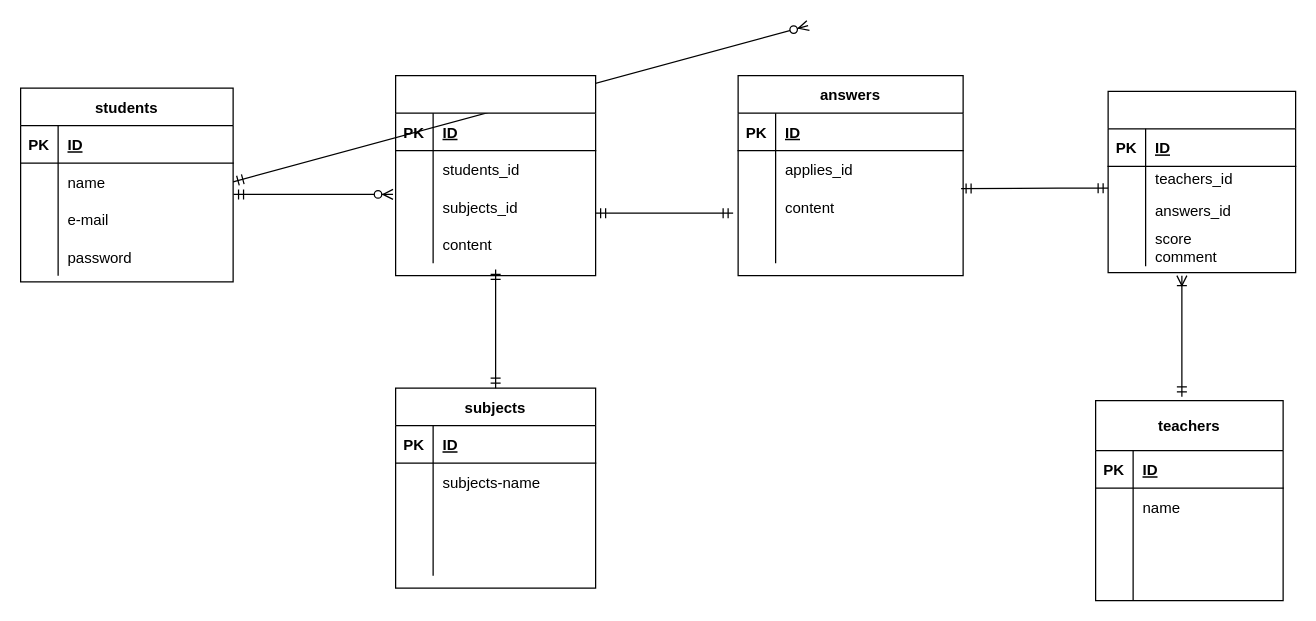
This 1316x621 diagram has some shape labels left out. The box of each missing label's shape, as (x1, y1, x2, y2) in pixels:
applies: (394, 74, 596, 276)
results: (1107, 90, 1296, 272)
